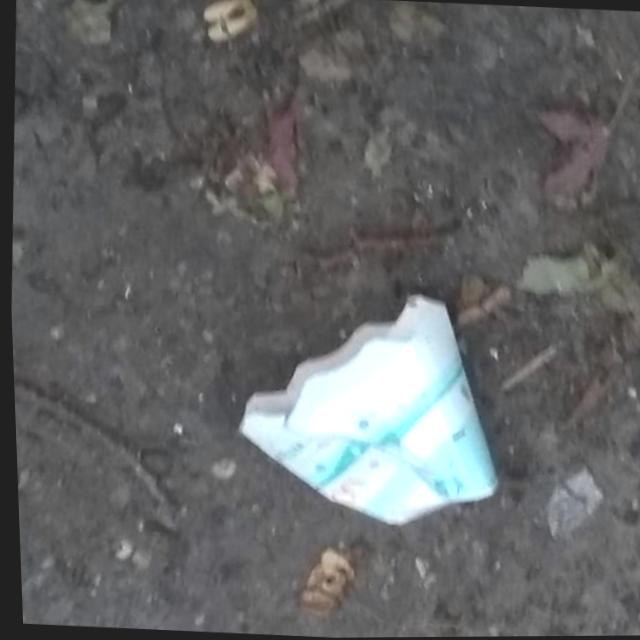Paper: (222, 280, 512, 536)
